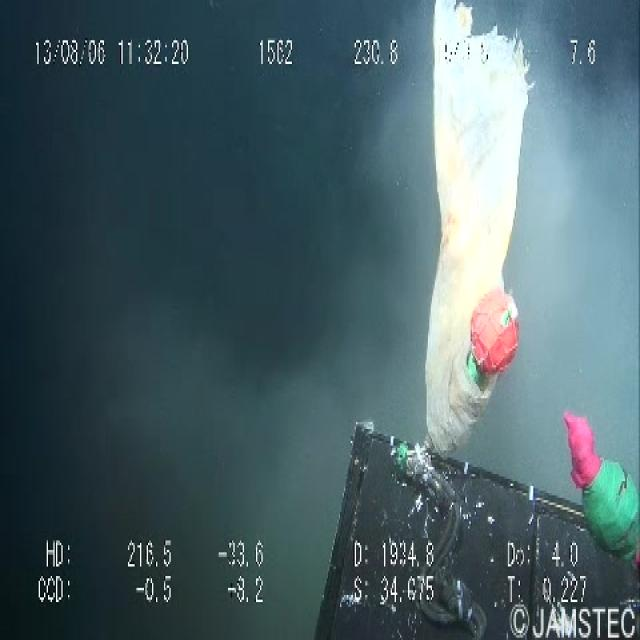plastic: (412, 2, 537, 464)
